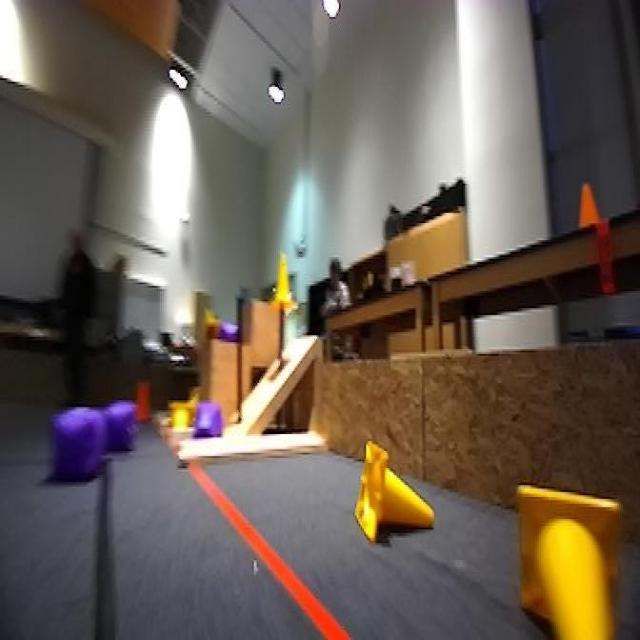frc_cone: (510, 486, 610, 636), (352, 441, 428, 553), (273, 248, 300, 322), (168, 403, 197, 436)
frc_cube: (48, 407, 106, 482), (104, 396, 139, 458), (192, 402, 219, 437), (216, 320, 240, 340)
